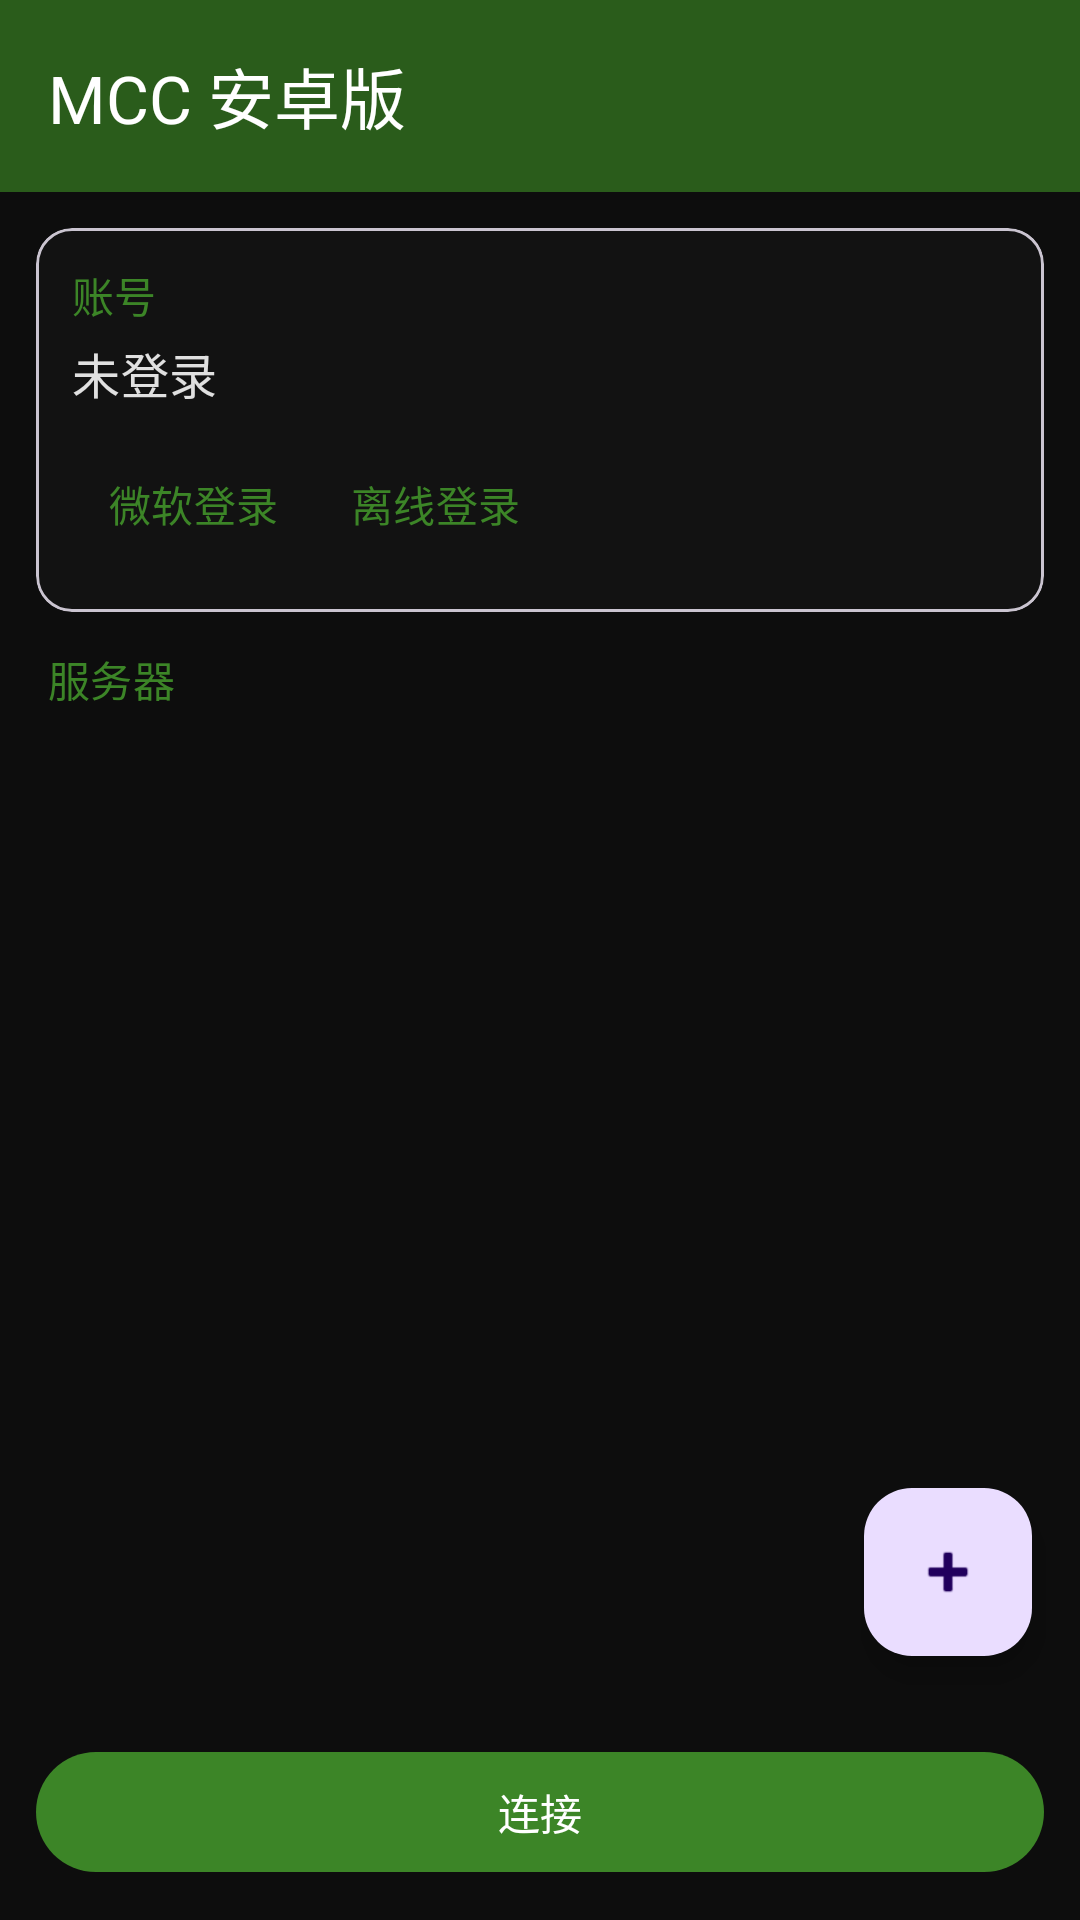

Screen size 1080 × 1920. Icon name, then its box in pixels as (x1, y1, x2, y2):
添加服务器: (864, 1488, 1032, 1656)
